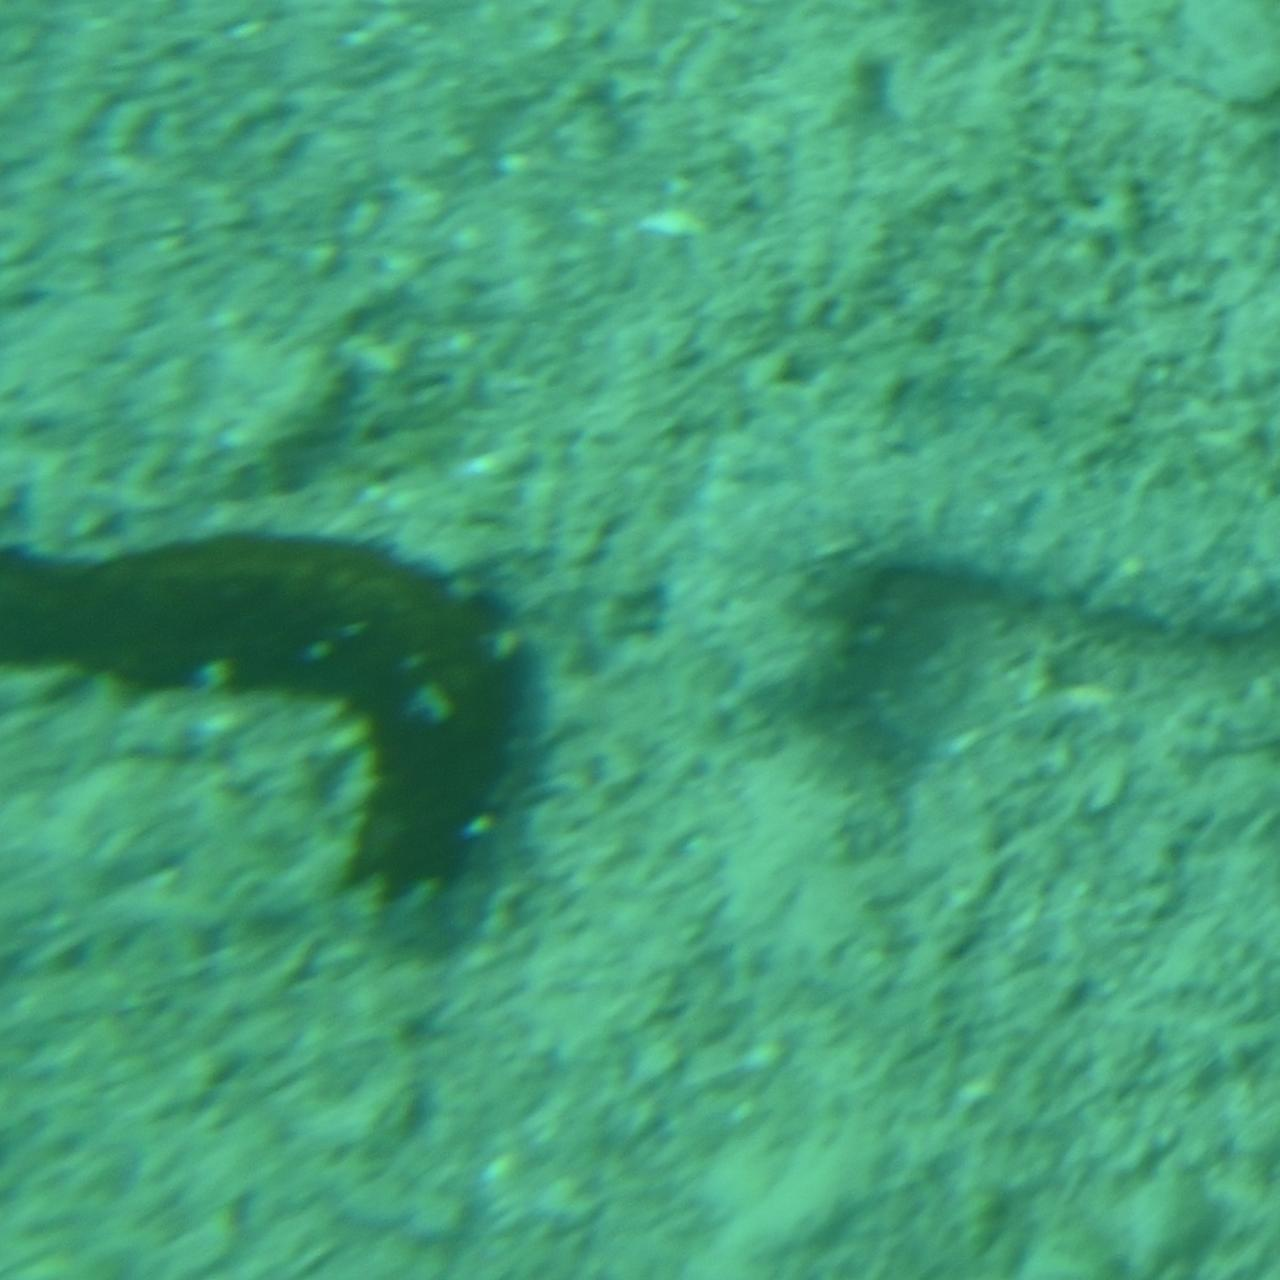Holothuria tubulosa: (0, 517, 533, 931), (692, 427, 1280, 687)
